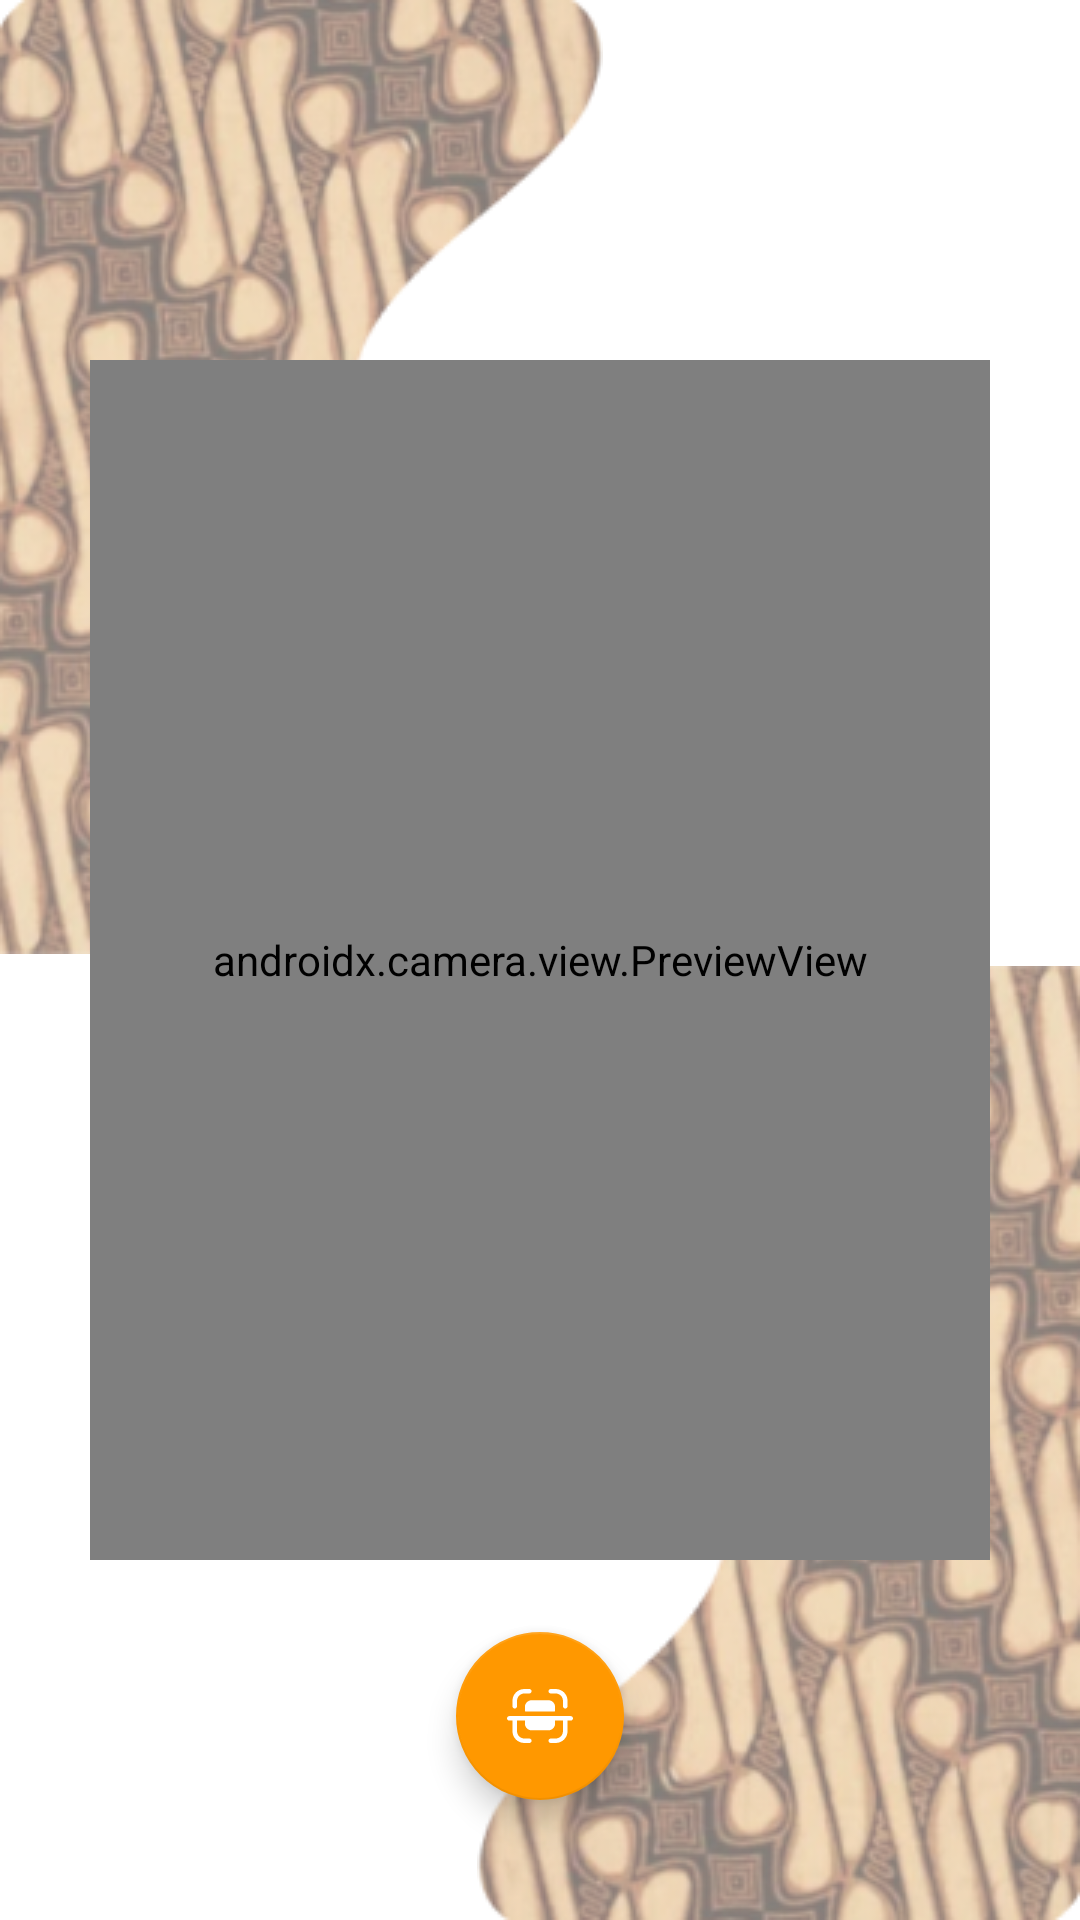

Icons on this 1080w x 1920h Android screen, each with the point to tap as point (x, y):
scan: point (540, 1716)
